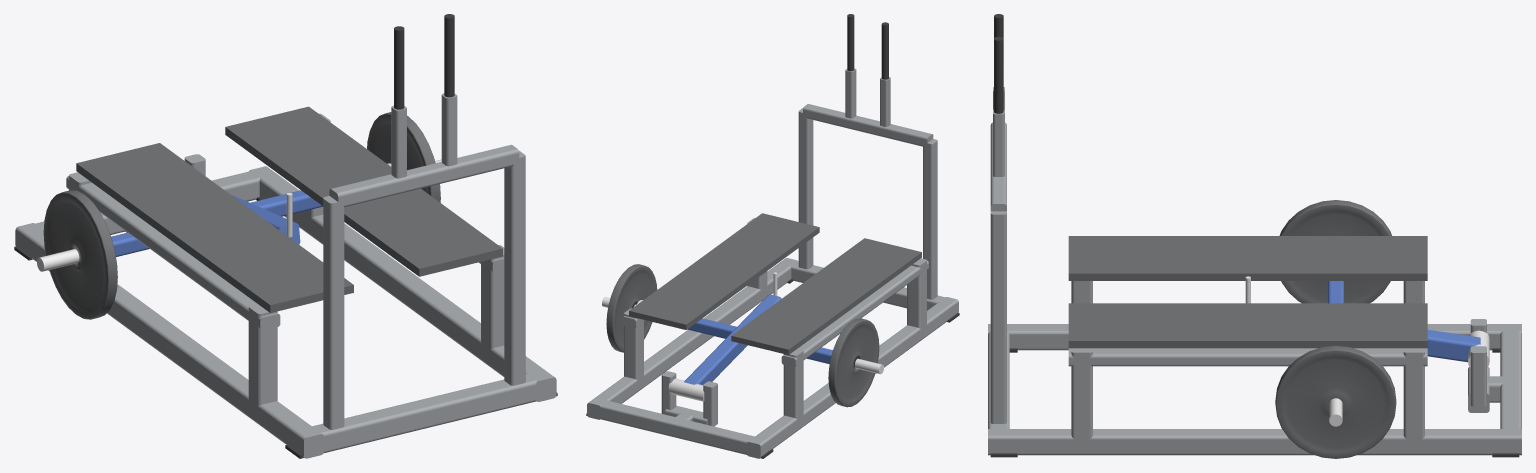
3 views of the same model, side by side, from view 1: azimuth 30°, elevation 25°; view 2: azimuth 150°, elevation 25°; view 3: azimuth 270°, elevation 25° (orthographic). The views are drawn at different scales.
Visible parts, largest first — view 1: foot_plate (×2), base, handles, platform, lever, handle_bar, handle_grip (×2), lever_crossbar, lever_bar, plate_horn; view 2: foot_plate (×2), base, platform, lever, handles, handle_bar, lever_bar, frame, handle_grip (×2), lever_crossbar, lever_hub; view 3: foot_plate (×2), base, lever, platform, handles, frame, lever_bar, handle_bar, handle_grip.
Part boxes in pixels (box(x1,y1,x2,y2)): foot_plate (×2): box(76, 106, 502, 312); base: box(14, 166, 557, 458); handles: box(323, 93, 525, 429); platform: box(66, 113, 504, 407); lever: box(43, 112, 440, 319); handle_bar: box(329, 144, 519, 207); handle_grip (×2): box(394, 14, 454, 109); lever_crossbar: box(111, 190, 322, 256); lever_bar: box(230, 194, 300, 244); plate_horn: box(37, 249, 79, 271); foot_plate (×2): box(629, 213, 921, 354); base: box(586, 258, 959, 458); platform: box(622, 218, 928, 424); lever: box(606, 264, 879, 407); handles: box(798, 68, 937, 299); handle_bar: box(803, 104, 933, 146); lever_bar: box(684, 294, 781, 384); frame: box(661, 371, 717, 426); handle_grip (×2): box(847, 14, 888, 79); lever_crossbar: box(687, 318, 832, 364); lever_hub: box(668, 378, 704, 401); foot_plate (×2): box(1068, 236, 1427, 348); base: box(988, 324, 1521, 457); lever: box(1275, 200, 1396, 458); platform: box(1068, 281, 1427, 446); handles: box(990, 87, 1006, 423); frame: box(1468, 319, 1489, 412); lever_bar: box(1427, 329, 1480, 362); handle_bar: box(990, 122, 1006, 211); handle_grip: box(994, 36, 1003, 113).
Size of the model in its own units: 1.6 by 1.53 by 1.99.
